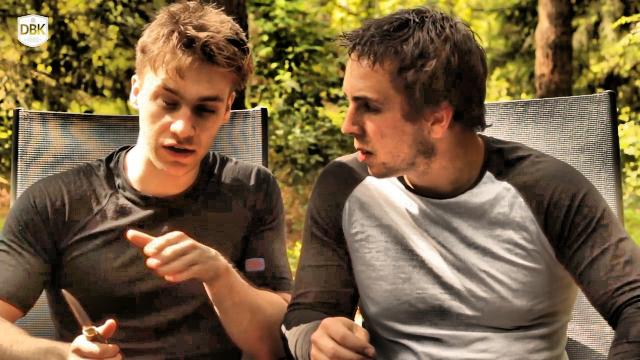knife: (54, 280, 126, 360)
